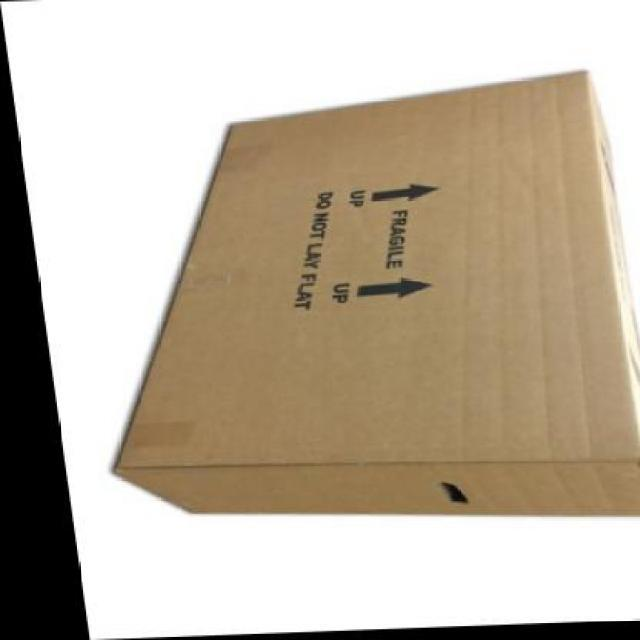box: (54, 74, 638, 546)
